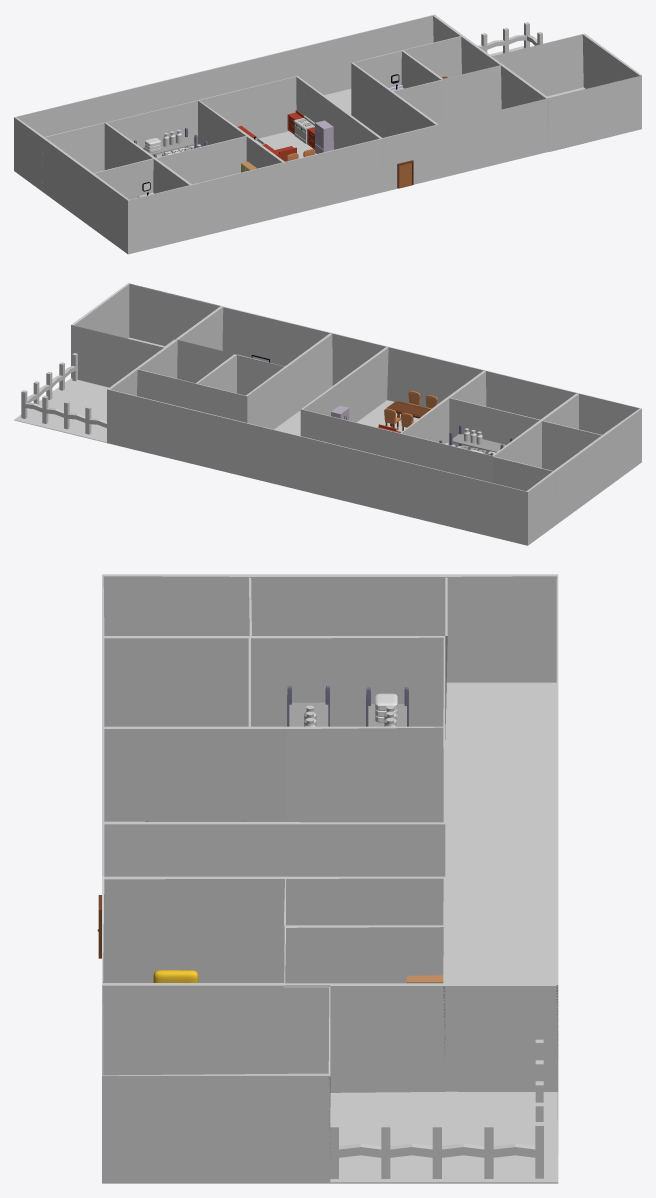
Rendered from STAGE_1_FIKS_.fbx.
3 views of the same model, one above another, from view 1: azimuth 30°, elevation 25°; view 2: azimuth 150°, elevation 25°; view 3: azimuth 270°, elevation 25° (orthographic). The views are drawn at different scales.
Visible parts, largest first — view 1: Plane.006, Torus.001, Cube.131, Cube.022; view 2: Plane.006, Cube.131, Cube.133, Cylinder.025, Cube.125; view 3: Plane.006, Cube.133.
Boxes of the visible parts, <box> form: Plane.006: <box>14,14,641,254</box>; Torus.001: <box>315,120,333,153</box>; Cube.131: <box>477,27,525,53</box>; Cube.022: <box>293,115,314,143</box>; Plane.006: <box>14,283,641,545</box>; Cube.131: <box>25,395,106,434</box>; Cube.133: <box>27,353,77,404</box>; Cylinder.025: <box>386,401,430,425</box>; Cube.125: <box>452,434,505,452</box>; Plane.006: <box>102,574,558,1183</box>; Cube.133: <box>330,1123,535,1178</box>.
Size of the model in its own units: 28981 by 2989 by 11255.
